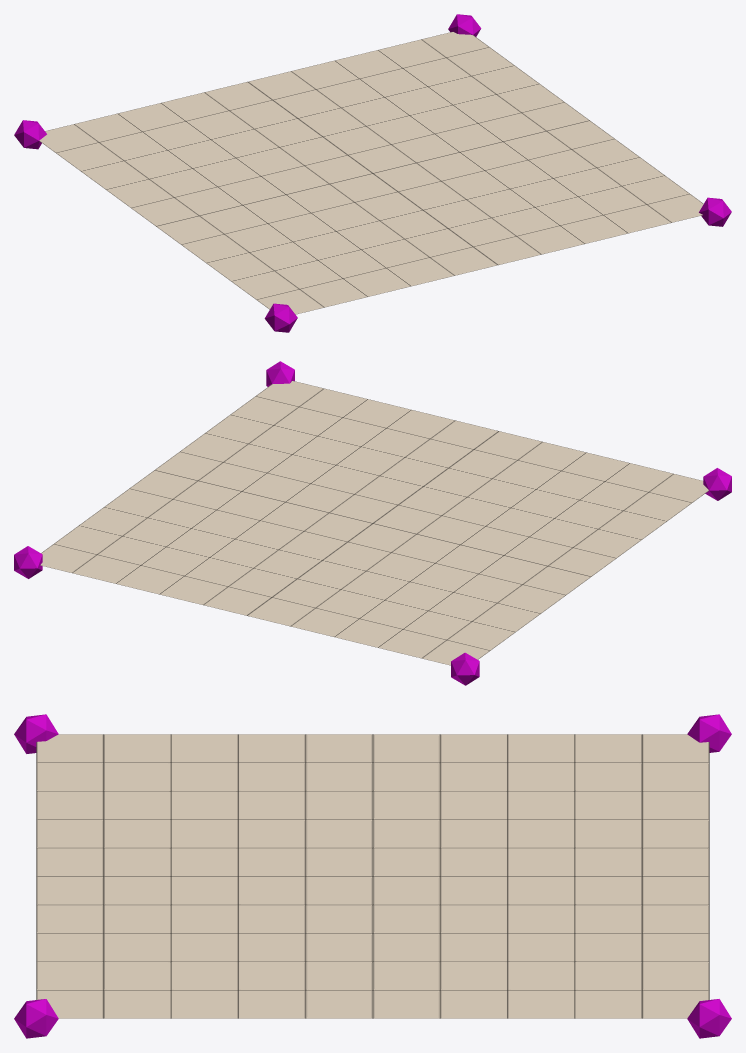
Rendered from ClickCubeScene.dae.
3 views of the same model, one above another, from view 1: azimuth 30°, elevation 25°; view 2: azimuth 150°, elevation 25°; view 3: azimuth 270°, elevation 25° (orthographic). The views are drawn at different scales.
Parts seen in each view (by area): view 1: pPlane1, pPlatonic2, pPlatonic1, pPlatonic3, pPlatonic4; view 2: pPlane1, pPlatonic3, pPlatonic4, pPlatonic2, pPlatonic1; view 3: pPlane1, pPlatonic4, pPlatonic1, pPlatonic2, pPlatonic3.
Boxes of the visible parts, x1=… form: pPlane1: x1=39, y1=31, x2=703, y2=314; pPlatonic2: x1=264, y1=303, x2=297, y2=332; pPlatonic1: x1=699, y1=197, x2=731, y2=226; pPlatonic3: x1=14, y1=120, x2=46, y2=149; pPlatonic4: x1=448, y1=14, x2=481, y2=36; pPlane1: x1=40, y1=380, x2=708, y2=665; pPlatonic3: x1=451, y1=652, x2=479, y2=685; pPlatonic4: x1=14, y1=546, x2=42, y2=578; pPlatonic2: x1=703, y1=468, x2=731, y2=500; pPlatonic1: x1=266, y1=361, x2=294, y2=386; pPlane1: x1=36, y1=734, x2=709, y2=1018; pPlatonic4: x1=687, y1=999, x2=731, y2=1038; pPlatonic1: x1=14, y1=999, x2=58, y2=1038; pPlatonic2: x1=14, y1=714, x2=58, y2=753; pPlatonic3: x1=687, y1=714, x2=731, y2=752.
Bounding box in the file's own units: 3.18 × 0.1701 × 3.2.
Materials: 2 (1 with a texture image).
